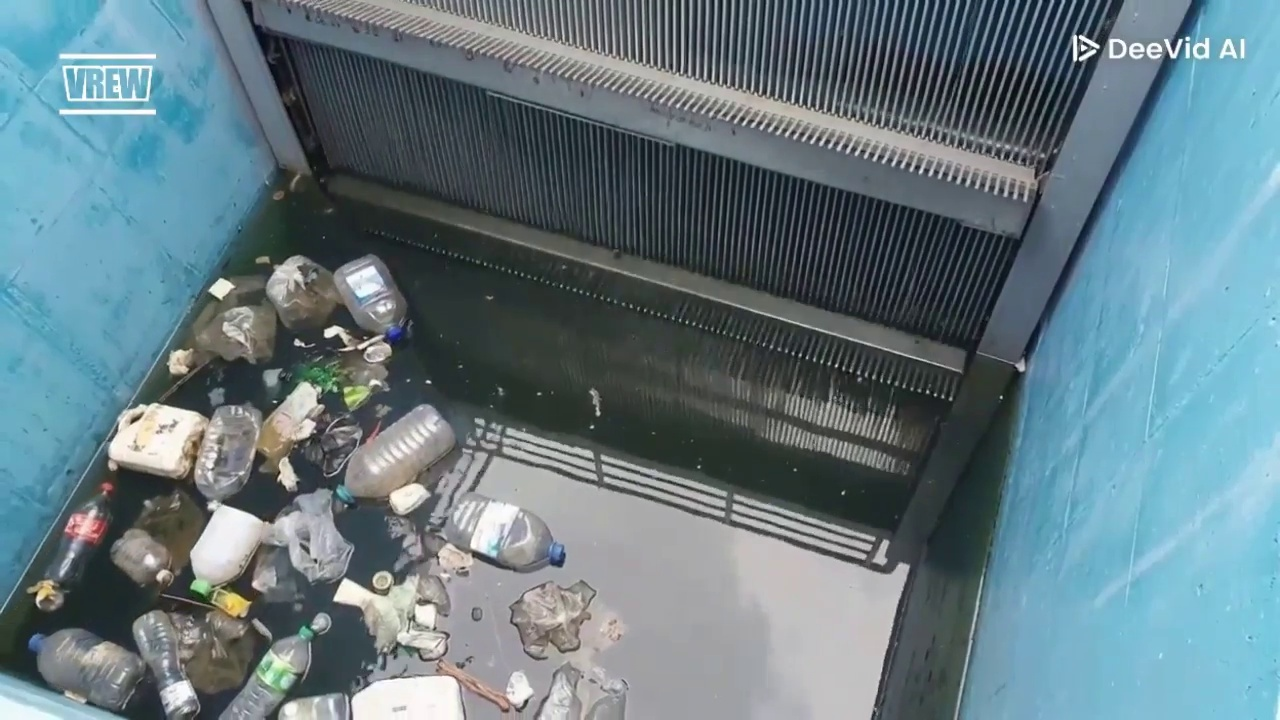debris: (263, 491, 447, 647), (107, 377, 332, 497), (186, 253, 411, 367), (334, 404, 456, 504), (219, 615, 326, 719), (27, 483, 113, 611), (446, 493, 564, 570), (33, 631, 132, 698), (350, 665, 465, 719), (511, 582, 593, 656), (190, 506, 265, 585), (536, 663, 628, 719), (110, 530, 174, 587)
